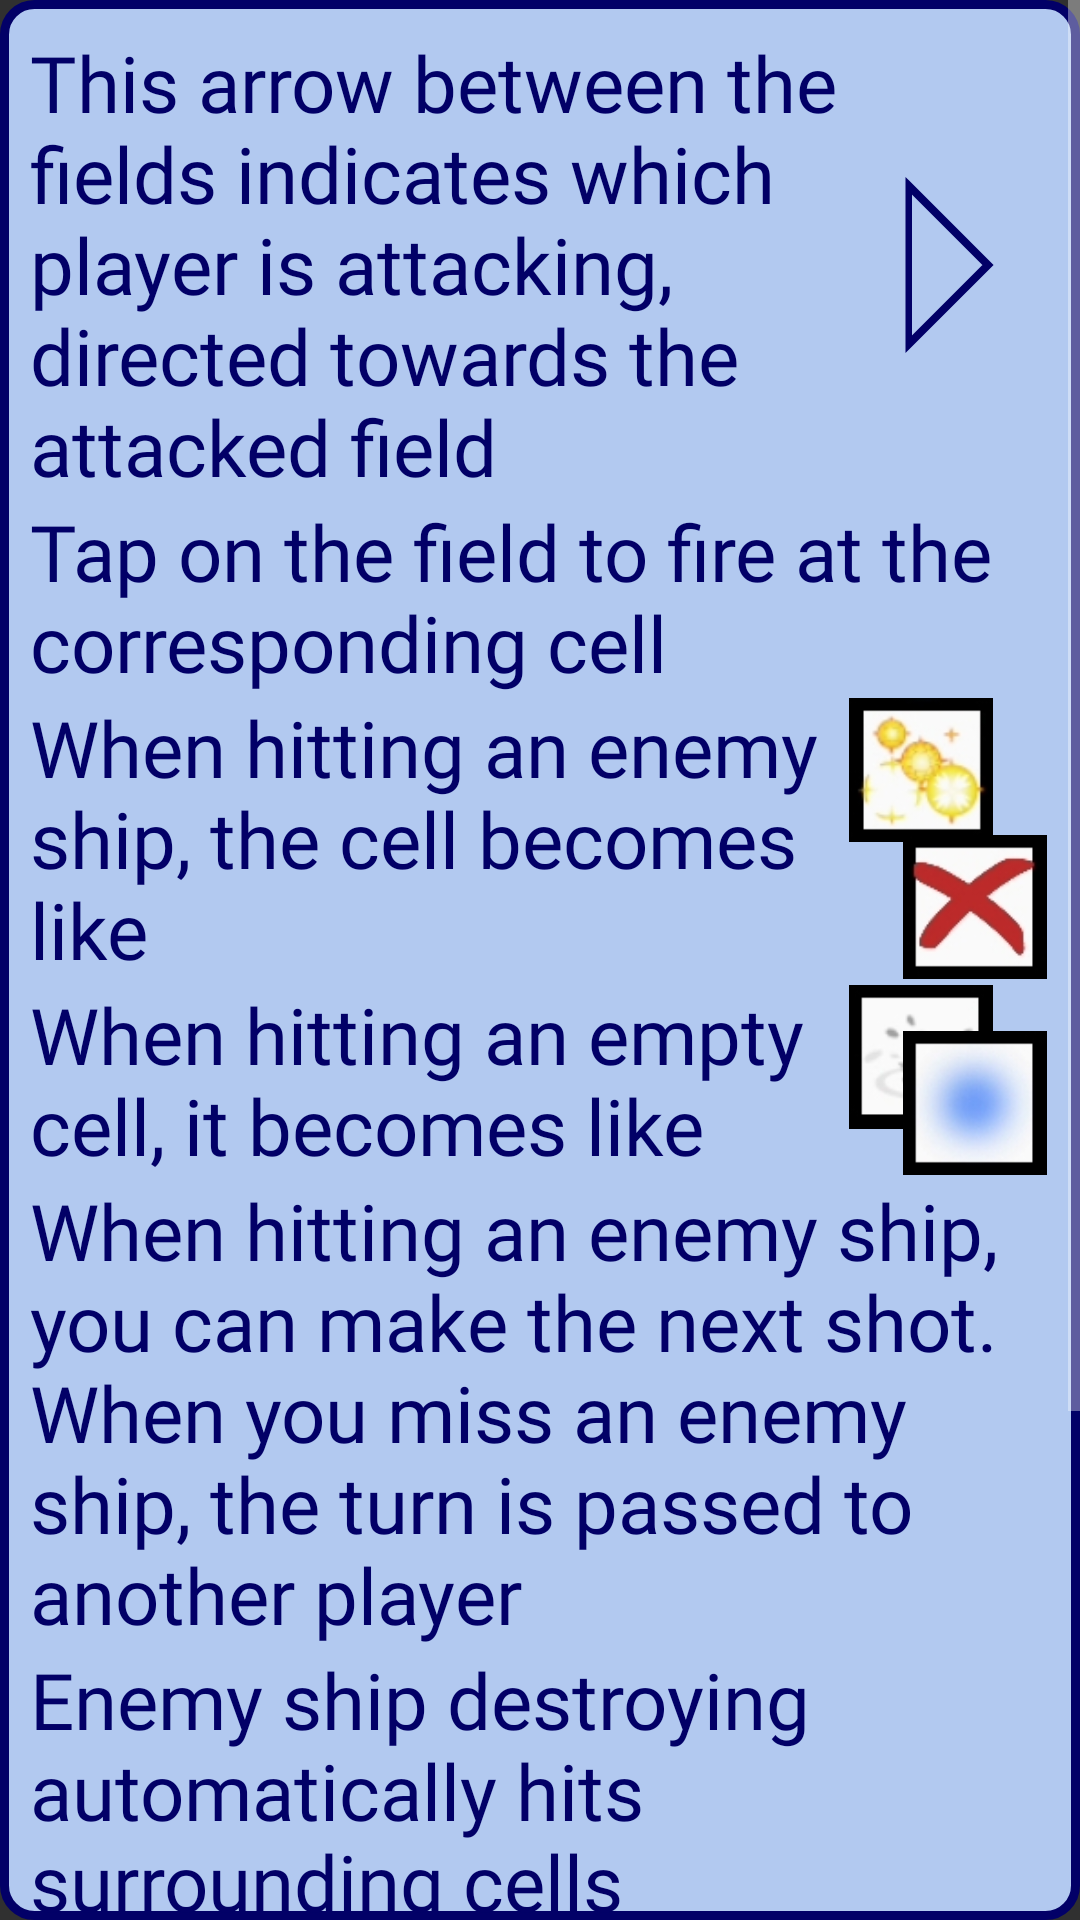

Where to tap for icons on this 1080*1920 app screen, as point (x, y):
exmp explosion: point (922, 771)
exmp hit: point (973, 905)
exmp miss: point (973, 1101)
Turn: point (949, 265)
